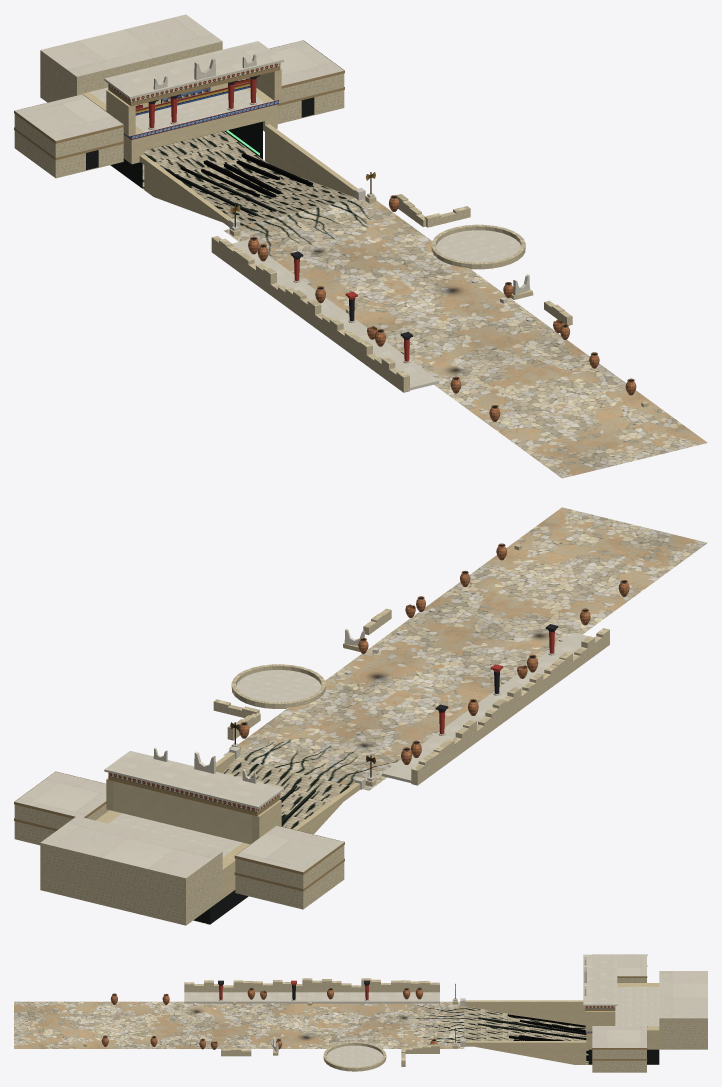
File: lugar-cnosos.glb
The picture shows the model from 3 angles, top to bottom: view 1: azimuth 30°, elevation 25°; view 2: azimuth 150°, elevation 25°; view 3: azimuth 270°, elevation 25°; orthographic projection. The views are drawn at different scales.
Parts seen in each view (by area): view 1: luzS-pista, luzE, vert-cerca, planoE; view 2: luzS-pista, luzE, planoE; view 3: luzS-pista, luzE, vert-cerca, planoE.
Part boxes in pixels (box(x1,y1,x2,y2)): luzS-pista: box(77, 41, 707, 478); luzE: box(14, 14, 344, 178); vert-cerca: box(166, 153, 375, 227); planoE: box(86, 97, 633, 407); luzS-pista: box(96, 507, 707, 924); luzE: box(14, 771, 344, 925); planoE: box(194, 544, 626, 924); luzS-pista: box(14, 954, 659, 1071); luzE: box(592, 954, 707, 1072); vert-cerca: box(455, 983, 588, 1060); planoE: box(103, 988, 659, 1064).
Size of what is drawn, in the model's own units: 36.5 by 14.02 by 114.
19 materials, 12 textured.
